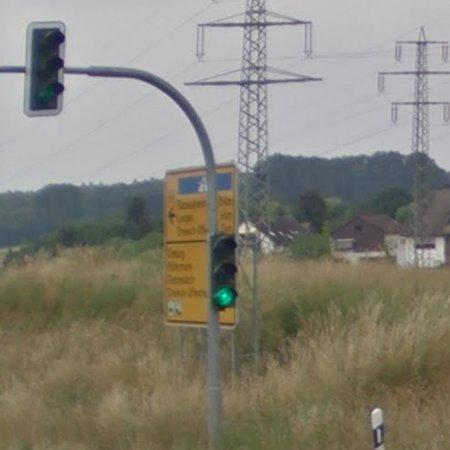traffic lights: (24, 23, 68, 119), (206, 232, 244, 312)
